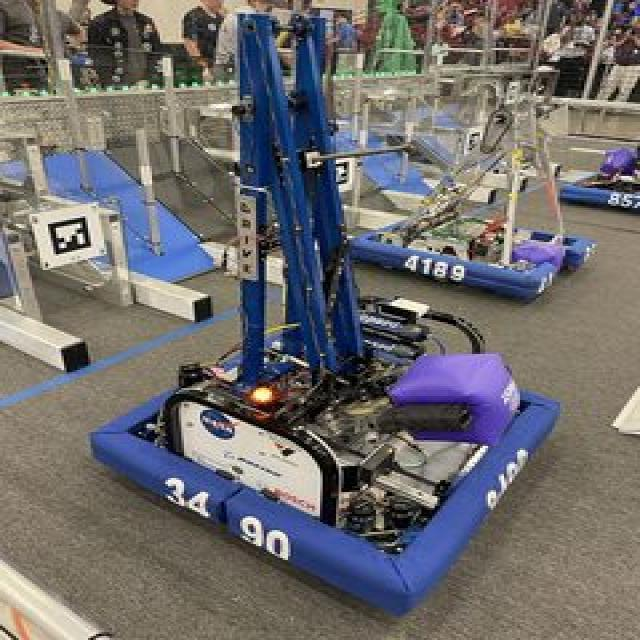robot: (85, 23, 553, 609), (358, 73, 600, 297), (569, 135, 639, 220)
